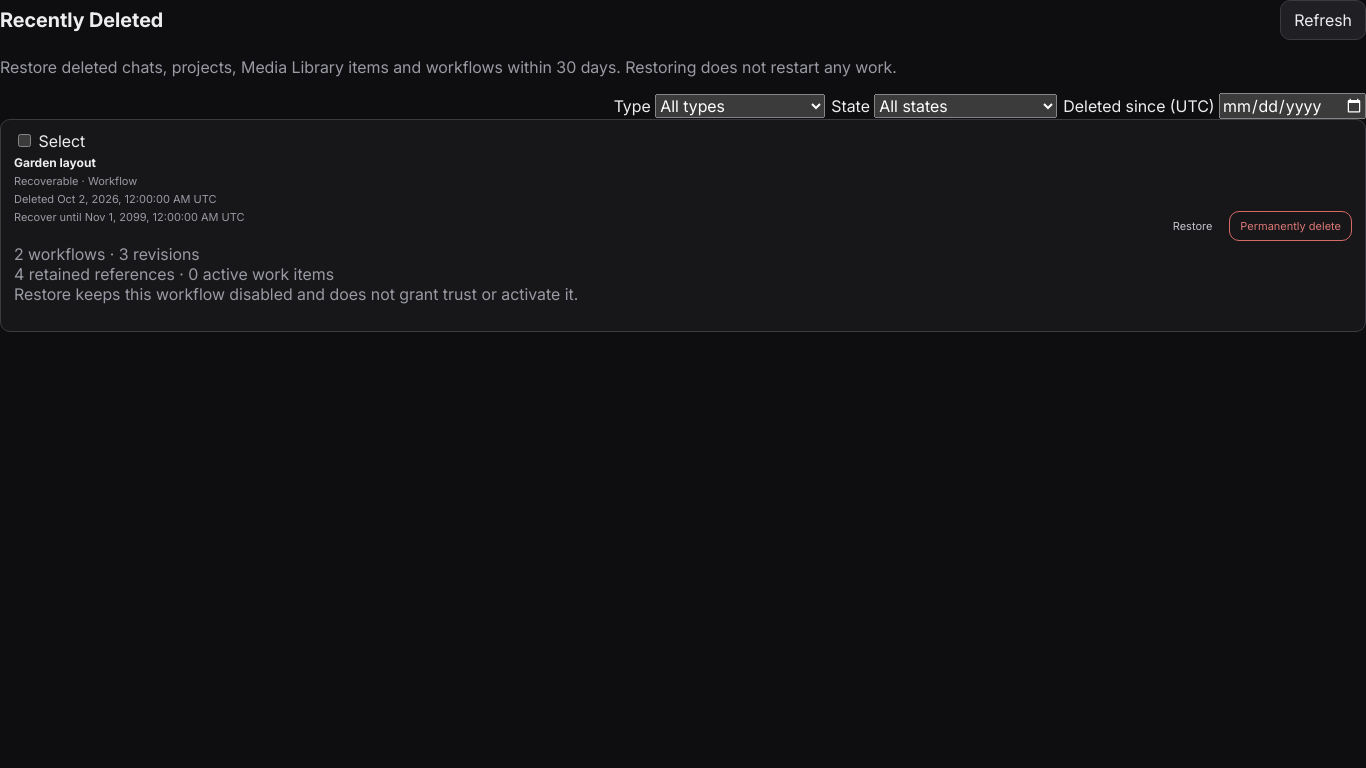
restores without enabling or activating a workflow and refreshes its selectors
Click the button with aria-label "Restore Garden layout".
click(1193, 226)  # box [1162,210,1223,240]
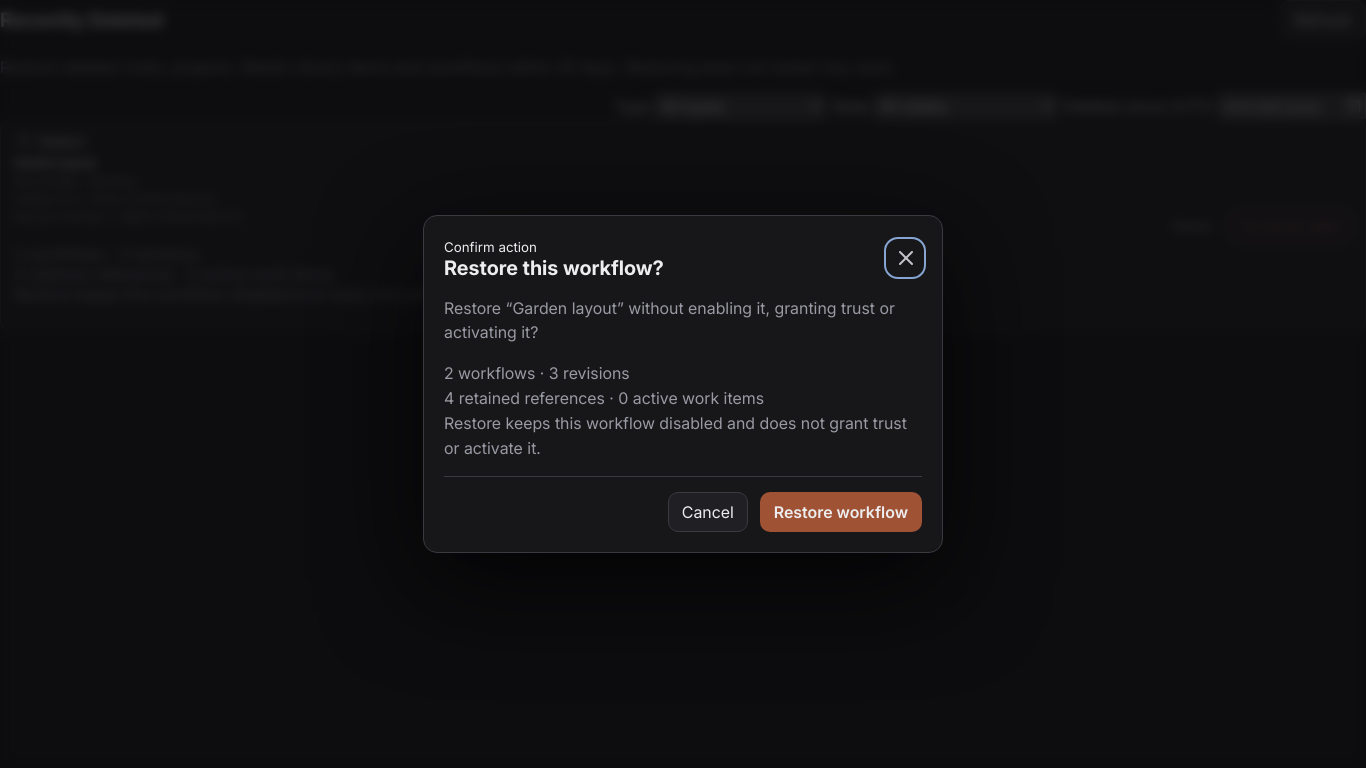
Expected: the text "without enabling it, granting trust or activating it" is shown, [444,298,895,342]
Click the button "Restore workflow".
click(841, 512)  # box [760,492,922,532]
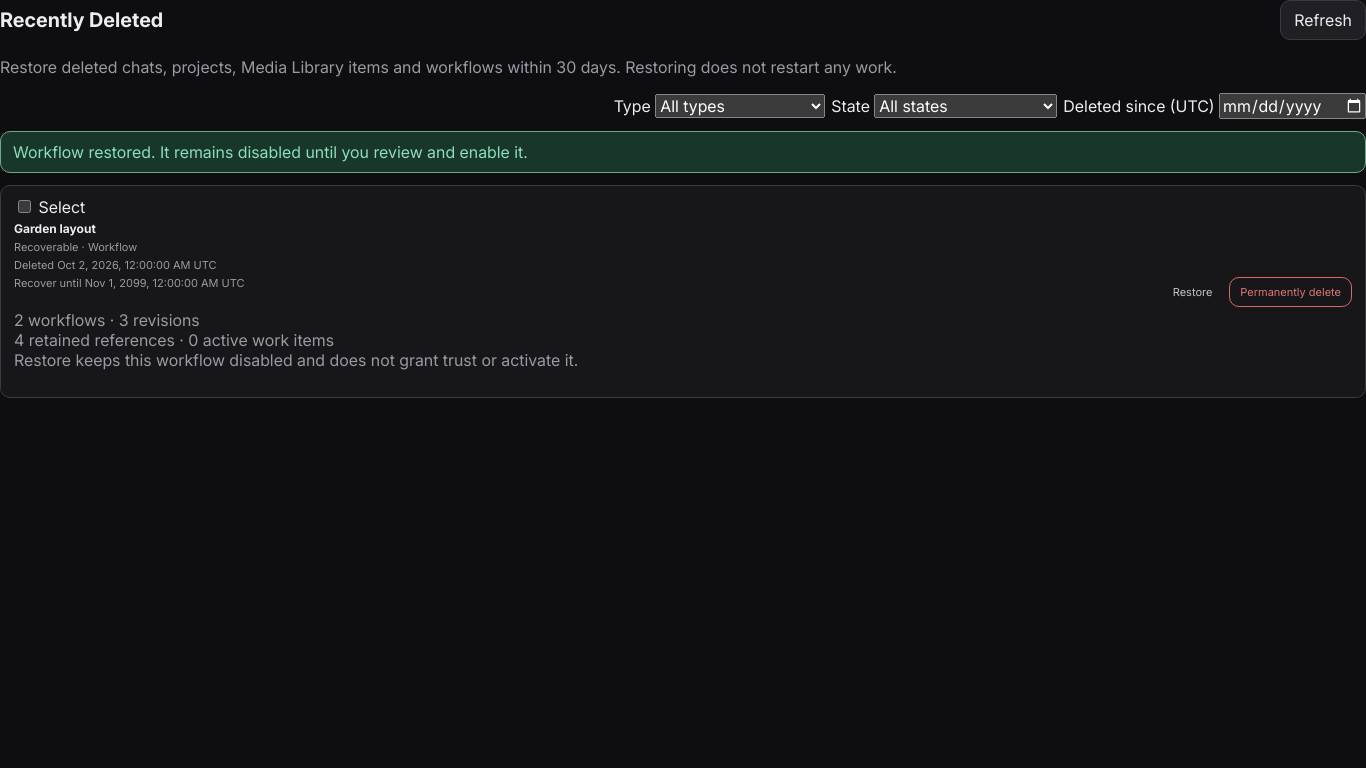
Expected: the text "Workflow restored. It remains disabled until you review and enable it." is shown, [0,131,1365,173]
